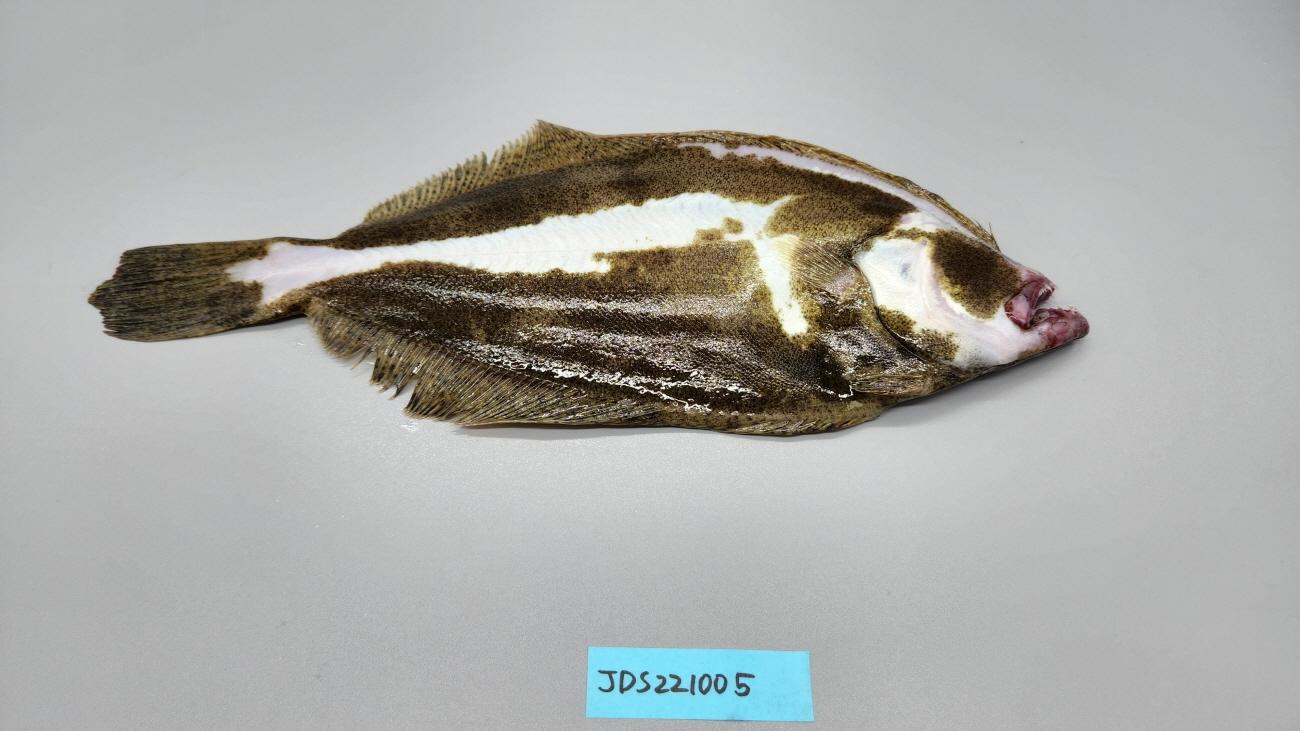VIMOU: (1006, 277, 1075, 330)
VIOUY: (90, 93, 1098, 447)
